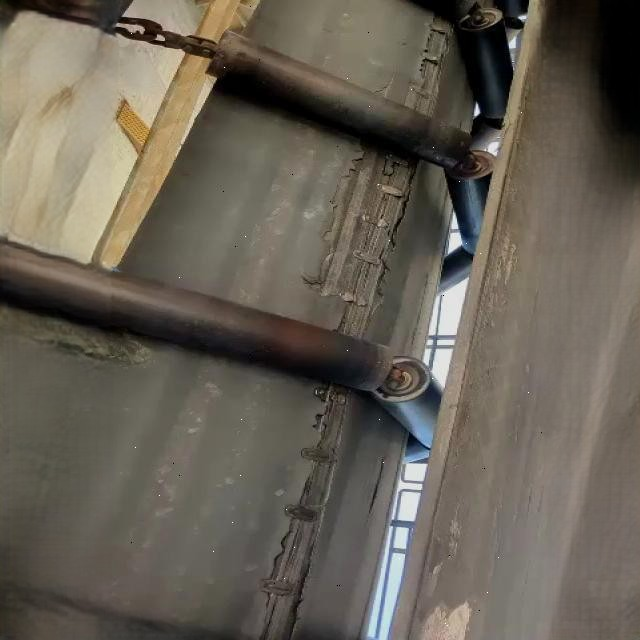Tear: (249, 391, 364, 640), (295, 152, 434, 340), (401, 13, 466, 116)
Wear: (80, 324, 156, 376)
